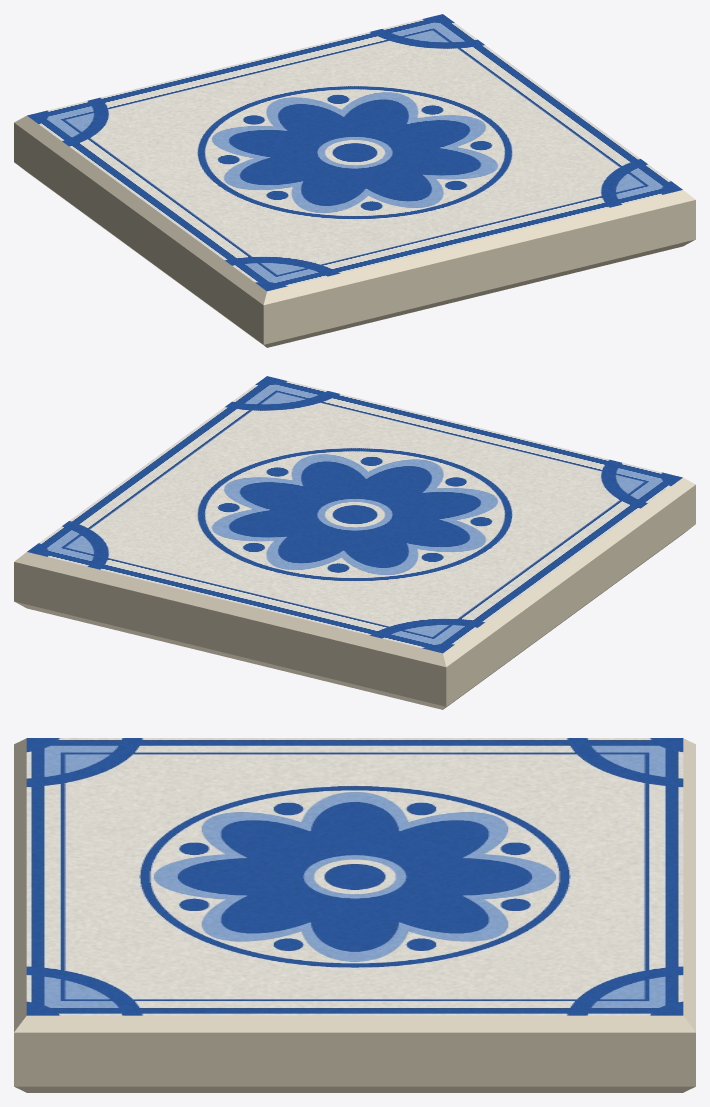
The model's file is tile.glb.
3 views of the same model, one above another, from view 1: azimuth 30°, elevation 25°; view 2: azimuth 150°, elevation 25°; view 3: azimuth 270°, elevation 25° (orthographic). The views are drawn at different scales.
Parts seen in each view (by area): view 1: Tile; view 2: Tile; view 3: Tile.
Boxes of the visible parts, <box> form: Tile: <box>14,14,695,347</box>; Tile: <box>14,376,695,709</box>; Tile: <box>14,738,695,1092</box>.
Bounding box in the file's own units: 1.6 × 0.2 × 1.6.
Materials: 1 (1 with a texture image).
